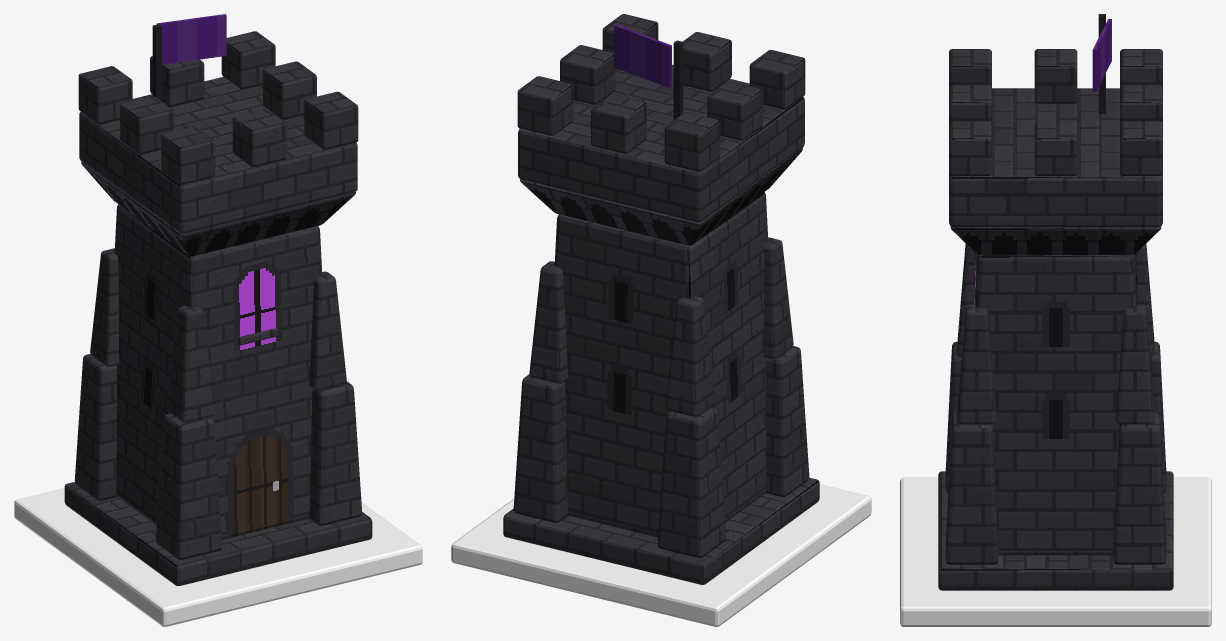
The model's file is rook_black.glb.
3 views of the same model, side by side, from view 1: azimuth 30°, elevation 25°; view 2: azimuth 150°, elevation 25°; view 3: azimuth 270°, elevation 25° (orthographic). The views are drawn at different scales.
Parts seen in each view (by area): view 1: rook; view 2: rook; view 3: rook.
Part boxes in pixels (x1=…): rook: x1=14, y1=14, x2=422, y2=626; rook: x1=451, y1=14, x2=871, y2=626; rook: x1=900, y1=14, x2=1211, y2=626.
Size of the model in its own units: 0.875 by 1.63 by 0.875.
2 materials, 1 textured.
